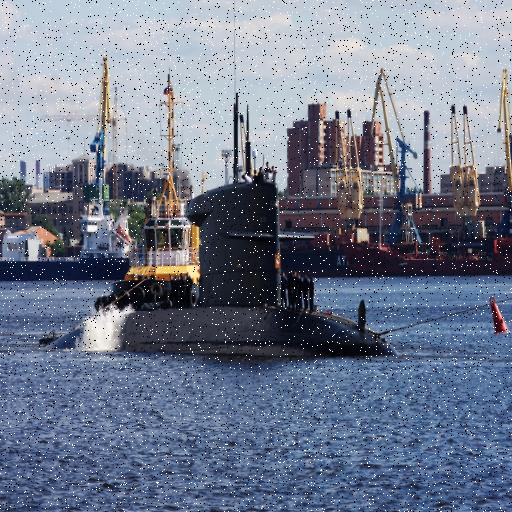submarine: (34, 180, 399, 355)
